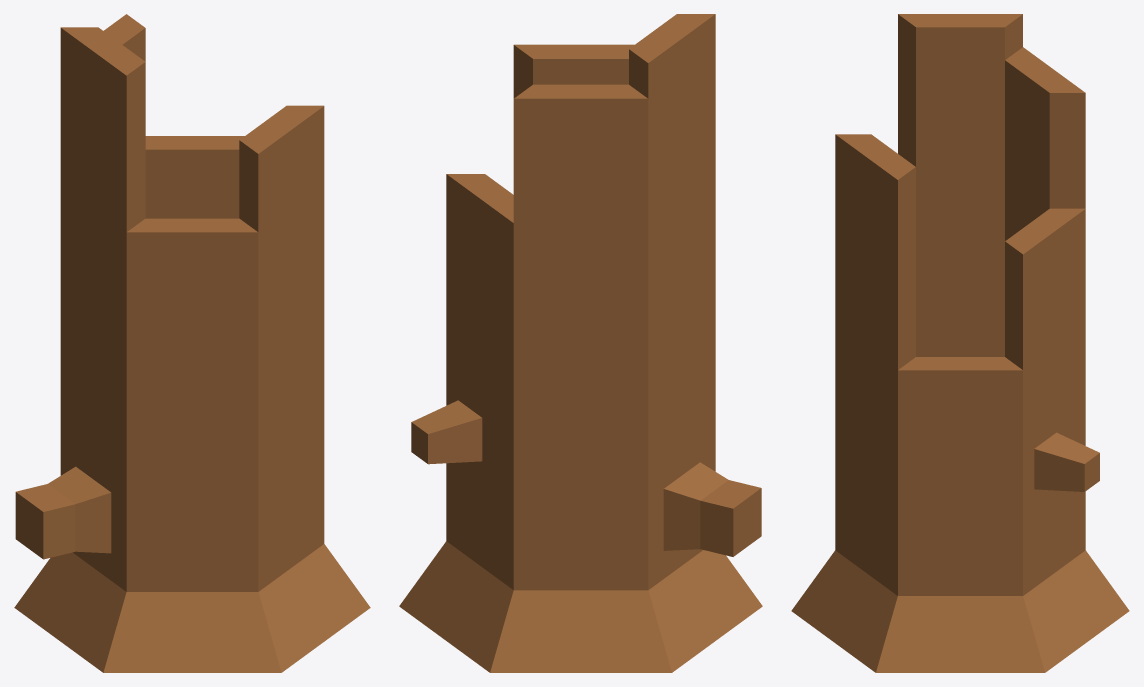
Rendered from stump.glb.
3 views of the same model, side by side, from view 1: azimuth 30°, elevation 25°; view 2: azimuth 150°, elevation 25°; view 3: azimuth 270°, elevation 25° (orthographic). The views are drawn at different scales.
Visible parts, largest first — view 1: stump_oldTall; view 2: stump_oldTall; view 3: stump_oldTall.
Boxes of the visible parts, x1,y1,x2,y2 form: stump_oldTall: (14,14,370,672); stump_oldTall: (399,14,762,672); stump_oldTall: (791,14,1129,672).
Size of the model in its own units: 1.43 by 2.67 by 1.48.
